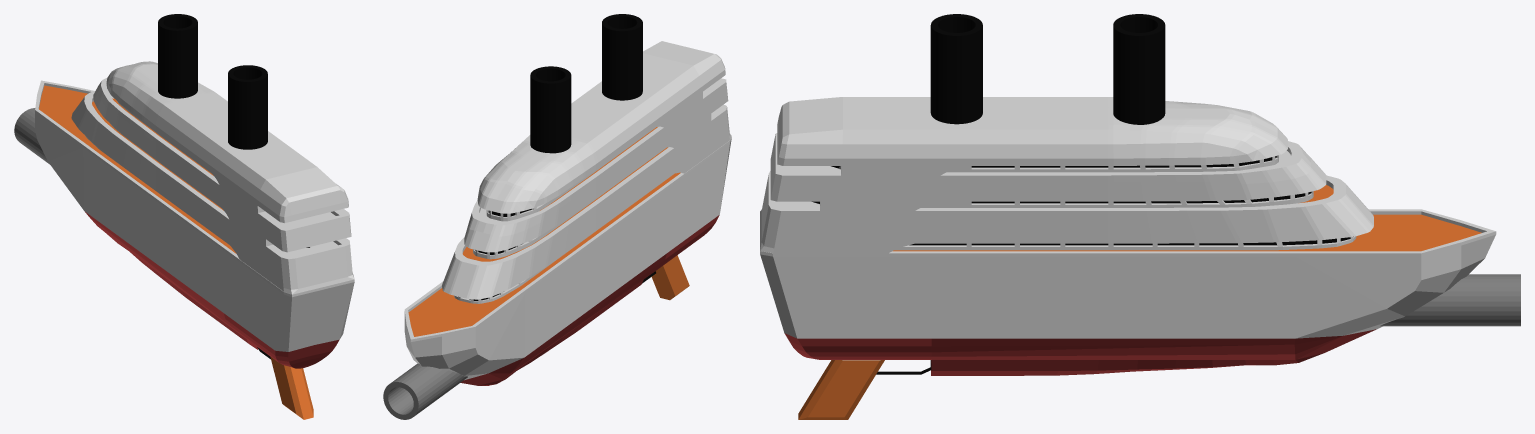
Rendered from BoatV2.glb.
3 views of the same model, side by side, from view 1: azimuth 30°, elevation 25°; view 2: azimuth 150°, elevation 25°; view 3: azimuth 270°, elevation 25° (orthographic). The views are drawn at different scales.
Parts seen in each view (by area): view 1: Base.001, Base, Exhaust, Exhaust2, Barrel; view 2: Base.001, Base, Exhaust, Exhaust2, Barrel; view 3: Base, Base.001, Exhaust, Exhaust2, Barrel.
Boxes of the visible parts, x1,y1,x2,y2 form: Base.001: [71, 61, 354, 297]; Base: [35, 80, 354, 419]; Exhaust: [158, 14, 197, 98]; Exhaust2: [228, 65, 267, 149]; Barrel: [14, 108, 49, 164]; Base.001: [442, 41, 731, 303]; Base: [404, 136, 731, 385]; Exhaust: [530, 66, 571, 153]; Exhaust2: [602, 14, 642, 100]; Barrel: [383, 363, 467, 419]; Base: [760, 209, 1496, 419]; Base.001: [760, 97, 1373, 253]; Exhaust: [1113, 14, 1165, 124]; Exhaust2: [930, 14, 982, 124]; Barrel: [1380, 274, 1520, 326].
Bounding box in the file's own units: 2 × 8.3 × 14.6.
